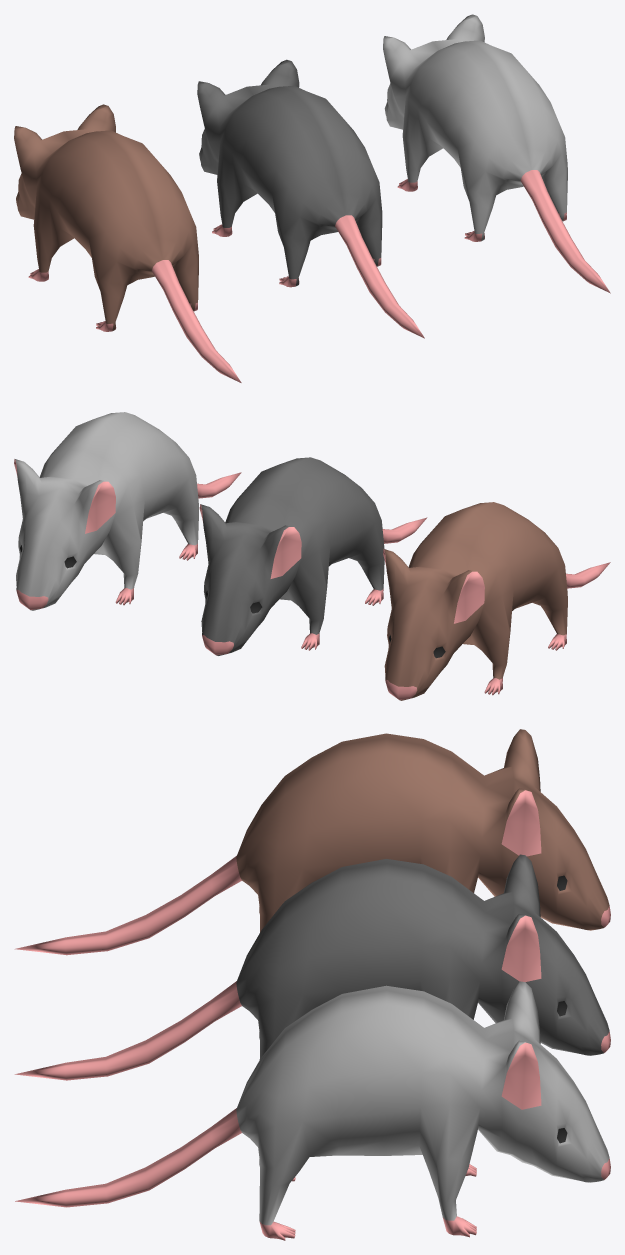
File: ratpack.glb
3 views of the same model, one above another, from view 1: azimuth 30°, elevation 25°; view 2: azimuth 150°, elevation 25°; view 3: azimuth 270°, elevation 25° (orthographic). The views are drawn at different scales.
Parts seen in each view (by area): view 1: Rat2, Rat3, Rat1; view 2: Rat1, Rat3, Rat2; view 3: Rat1, Rat2, Rat3.
Boxes of the visible parts, x1=… form: Rat2: x1=197, y1=59, x2=424, y2=338; Rat3: x1=14, y1=104, x2=241, y2=382; Rat1: x1=383, y1=14, x2=610, y2=293; Rat1: x1=14, y1=412, x2=241, y2=610; Rat3: x1=383, y1=502, x2=610, y2=700; Rat2: x1=199, y1=457, x2=427, y2=655; Rat1: x1=15, y1=981, x2=610, y2=1240; Rat2: x1=14, y1=854, x2=610, y2=1080; Rat3: x1=14, y1=729, x2=610, y2=955.
Bounding box in the file's own units: 3.21 × 0.9968 × 2.49.
Materials: 1 (1 with a texture image).
